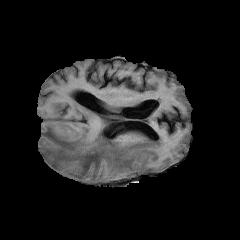glioma: (38, 104, 162, 179)
